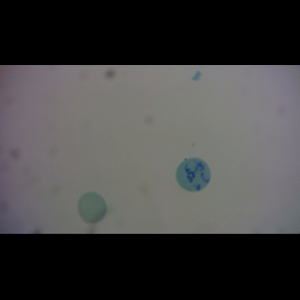aggregate reticulocyte: (175, 157, 213, 193)
erythrocyte: (76, 191, 108, 225)
